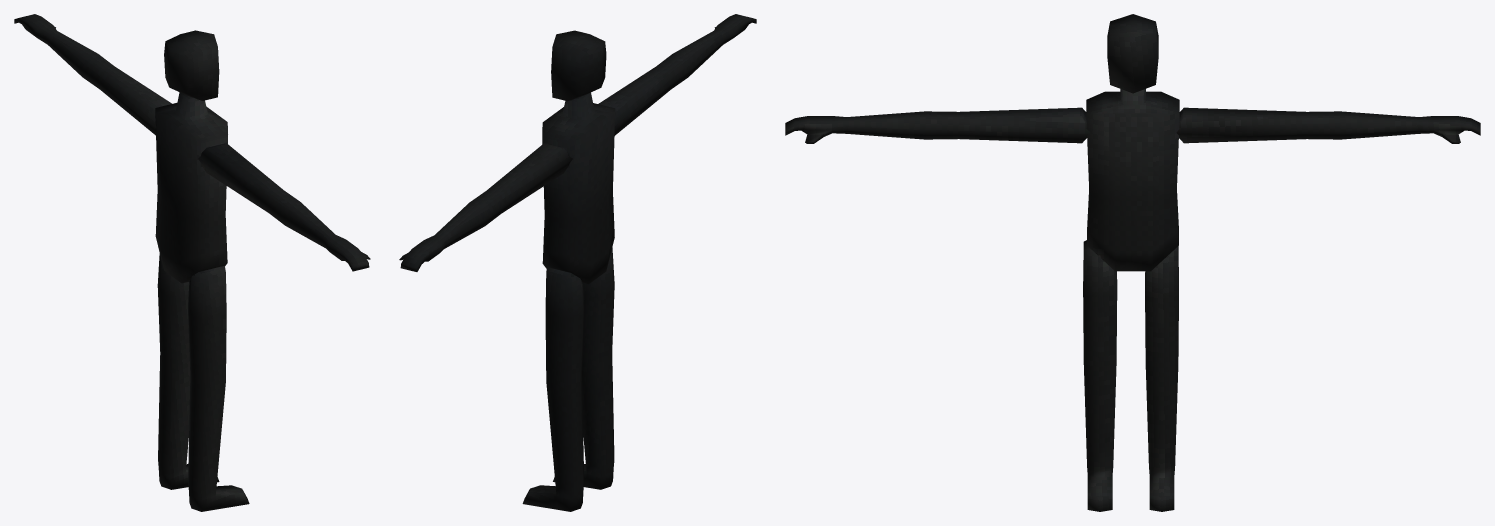
File: Deadman.glb
3 renders of one model, left to right at view 1: azimuth 30°, elevation 25°; view 2: azimuth 150°, elevation 25°; view 3: azimuth 270°, elevation 25°, orthographic. The views are drawn at different scales.
Visible parts, largest first — view 1: Cube; view 2: Cube; view 3: Cube.
Part boxes in pixels (bbox=[...]): Cube: bbox=[14, 14, 370, 511]; Cube: bbox=[399, 14, 756, 511]; Cube: bbox=[785, 14, 1480, 511].
Bounding box in the file's own units: 1.12 × 7.82 × 10.5.
1 material, 1 textured.
